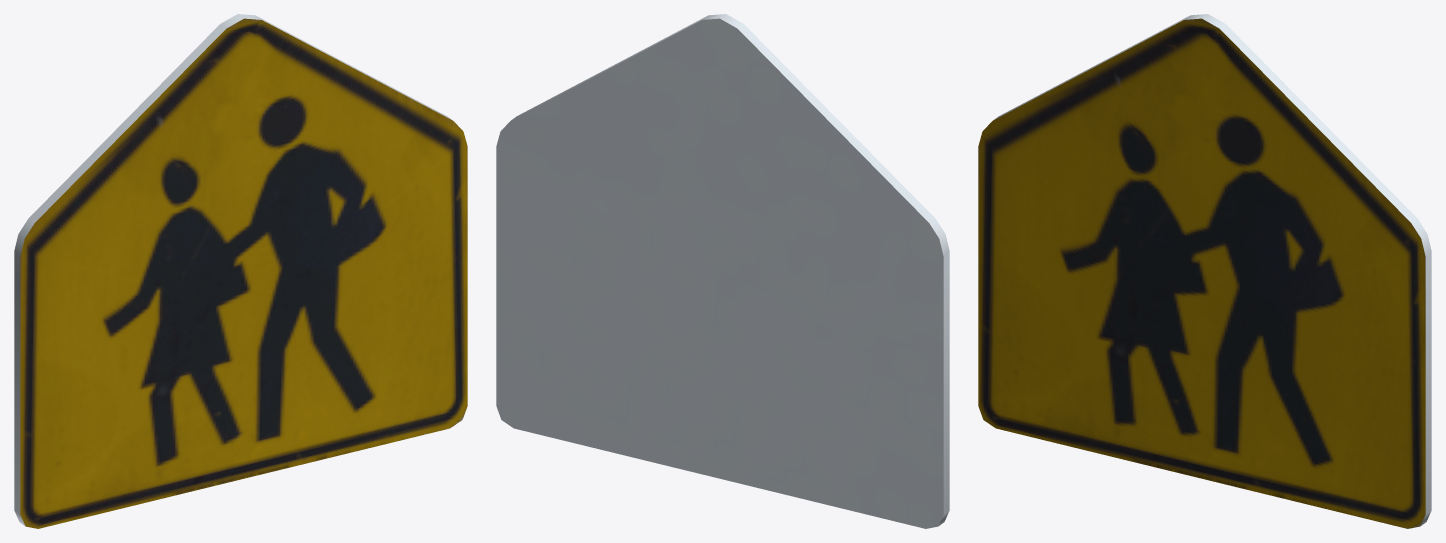
Rendered from SIgnBoard_2.fbx.
3 renders of one model, left to right at view 1: azimuth 30°, elevation 25°; view 2: azimuth 150°, elevation 25°; view 3: azimuth 330°, elevation 25°, orthographic.
Visible parts, largest first — view 1: SIgnBoard_2; view 2: SIgnBoard_2; view 3: SIgnBoard_2.
Part boxes in pixels (x1=…): SIgnBoard_2: x1=14, y1=14, x2=467, y2=528; SIgnBoard_2: x1=496, y1=14, x2=949, y2=528; SIgnBoard_2: x1=978, y1=14, x2=1431, y2=528.
Bounding box in the file's own units: 1.02 × 0.9993 × 0.0248.
